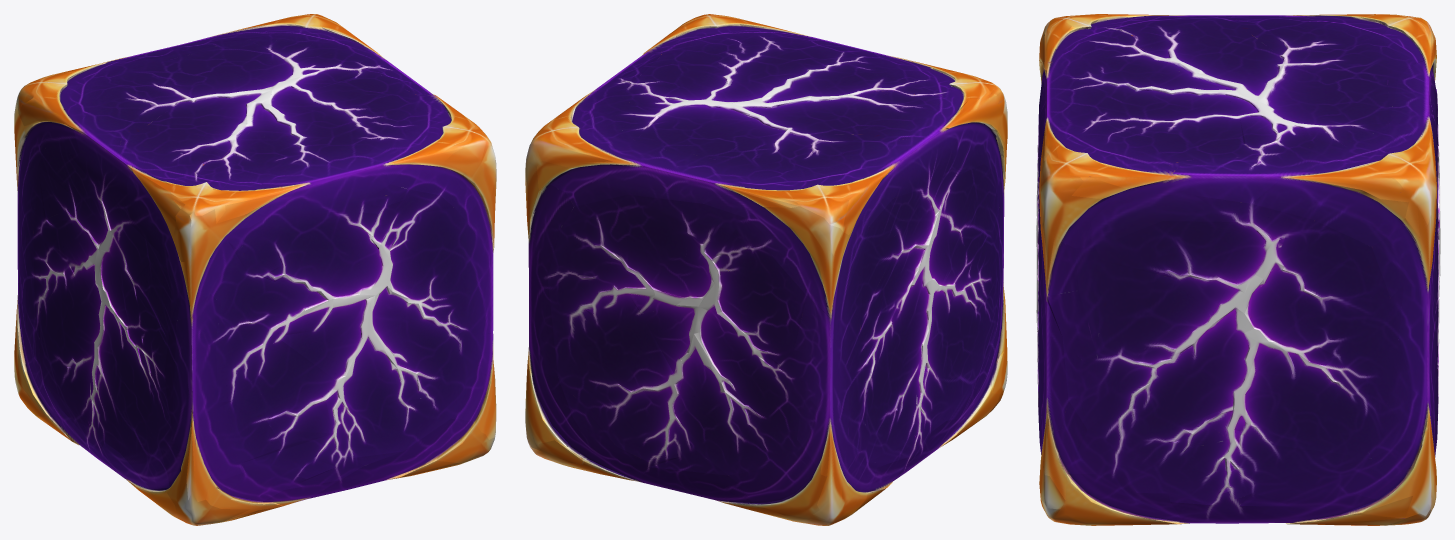
The model's file is Dé foudre v.1.glb.
3 views of the same model, side by side, from view 1: azimuth 30°, elevation 25°; view 2: azimuth 150°, elevation 25°; view 3: azimuth 270°, elevation 25° (orthographic). The views are drawn at different scales.
Visible parts, largest first — view 1: output_unwrapped; view 2: output_unwrapped; view 3: output_unwrapped.
Part boxes in pixels (<box>): output_unwrapped: <box>14,14,496,525</box>; output_unwrapped: <box>525,14,1007,525</box>; output_unwrapped: <box>1036,14,1440,525</box>.
Bounding box in the file's own units: 1.91 × 1.91 × 1.9.
1 material, 1 textured.
